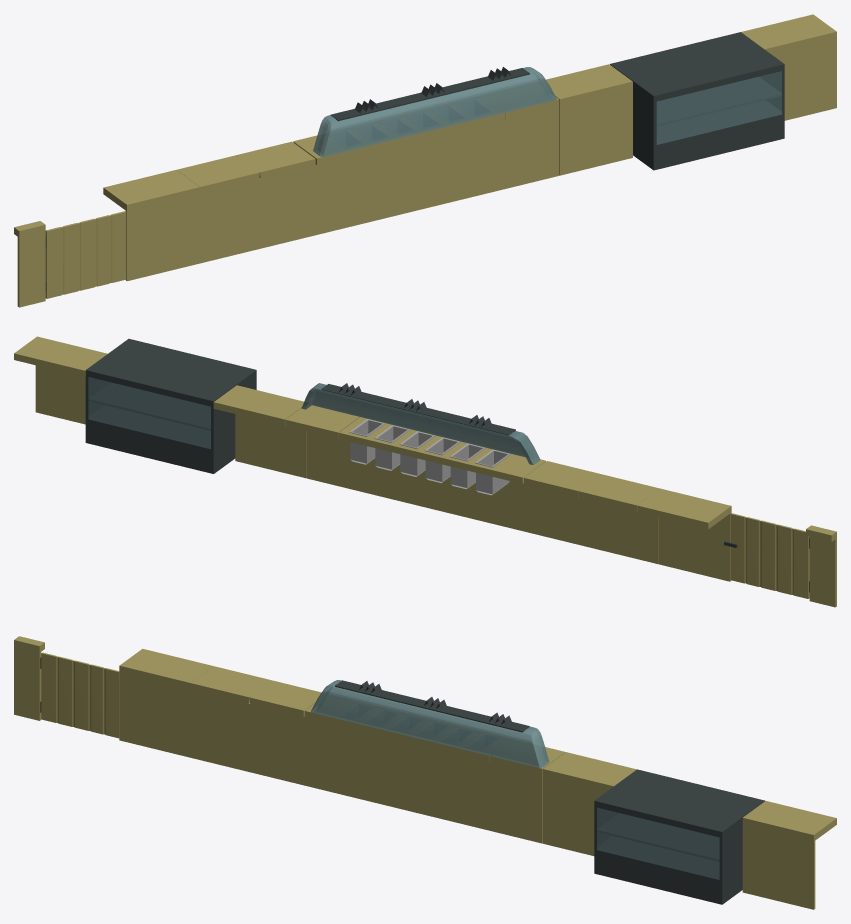
Rendered from Dalpek_ALL_UVS.fbx.
3 renders of one model, top to bottom at view 1: azimuth 30°, elevation 25°; view 2: azimuth 150°, elevation 25°; view 3: azimuth 330°, elevation 25°, orthographic. The views are drawn at different scales.
Visible parts, largest first — view 1: Shawarma_Table_MAIN, dalpek1, Shawarma_Table_Next_to_door, Shawarma_Table_Next_To_Dalpek, Shawarma_Table_Next_To_Wall, Door_For_Bar, dalpek2, Shawarma_Table_Smallest, Pita_Metal_Holder; view 2: Shawarma_Table_MAIN, dalpek1, Shawarma_Table_Next_to_door, Shawarma_Table_Next_To_Dalpek, Door_For_Bar, Shawarma_Table_Next_To_Wall, dalpek2, Shawarma_Table_Smallest, Pita_Metal_Holder, Pita; view 3: Shawarma_Table_MAIN, dalpek1, Shawarma_Table_Next_To_Wall, Shawarma_Table_Next_to_door, Shawarma_Table_Next_To_Dalpek, Door_For_Bar, dalpek2, Shawarma_Table_Smallest, Pita_Metal_Holder, Pita.
Boxes of the visible parts, x1=… form: Shawarma_Table_MAIN: x1=176, y1=67, x2=559, y2=263; dalpek1: x1=610, y1=32, x2=784, y2=170; Shawarma_Table_Next_to_door: x1=103, y1=170, x2=199, y2=281; Shawarma_Table_Next_To_Dalpek: x1=546, y1=64, x2=632, y2=175; Shawarma_Table_Next_To_Wall: x1=741, y1=14, x2=836, y2=120; Door_For_Bar: x1=45, y1=211, x2=126, y2=298; dalpek2: x1=657, y1=77, x2=781, y2=126; Shawarma_Table_Smallest: x1=14, y1=221, x2=45, y2=307; Pita_Metal_Holder: x1=331, y1=68, x2=529, y2=121; Shawarma_Table_MAIN: x1=285, y1=383, x2=659, y2=564; dalpek1: x1=85, y1=338, x2=256, y2=473; Shawarma_Table_Next_to_door: x1=637, y1=488, x2=731, y2=581; Shawarma_Table_Next_To_Dalpek: x1=213, y1=385, x2=306, y2=478; Door_For_Bar: x1=730, y1=513, x2=809, y2=598; Shawarma_Table_Next_To_Wall: x1=14, y1=336, x2=107, y2=424; dalpek2: x1=88, y1=382, x2=210, y2=430; Shawarma_Table_Smallest: x1=806, y1=525, x2=836, y2=607; Pita_Metal_Holder: x1=321, y1=384, x2=515, y2=435; Pita: x1=339, y1=383, x2=491, y2=428; Shawarma_Table_MAIN: x1=190, y1=666, x2=565, y2=843; dalpek1: x1=594, y1=769, x2=764, y2=904; Shawarma_Table_Next_To_Wall: x1=742, y1=801, x2=836, y2=909; Shawarma_Table_Next_to_door: x1=119, y1=648, x2=213, y2=757; Shawarma_Table_Next_To_Dalpek: x1=543, y1=752, x2=636, y2=855; Door_For_Bar: x1=41, y1=652, x2=119, y2=738; dalpek2: x1=597, y1=813, x2=719, y2=861; Shawarma_Table_Smallest: x1=14, y1=636, x2=44, y2=720; Pita_Metal_Holder: x1=335, y1=680, x2=529, y2=732; Pita: x1=359, y1=681, x2=512, y2=725.
Bounding box in the file's own units: 866 × 113 × 81.37.
